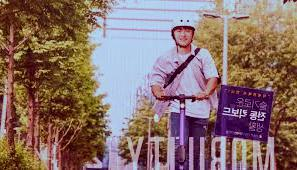helmet: (149, 16, 215, 170)
